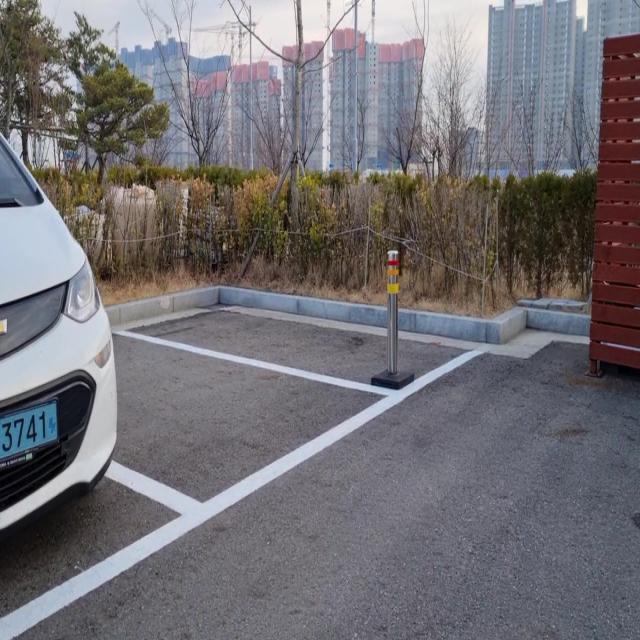empty: (104, 323, 405, 520)
